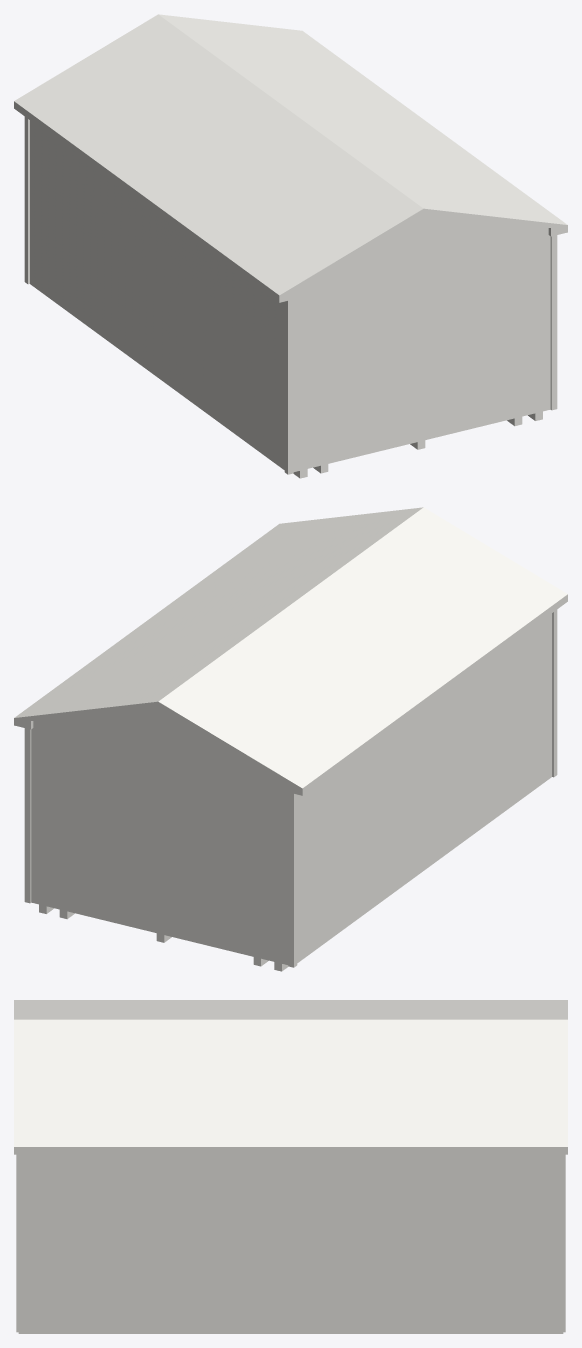
Rendered from 8 wide A-frame_7ft_12x20.obj.
3 renders of one model, top to bottom at view 1: azimuth 30°, elevation 25°; view 2: azimuth 150°, elevation 25°; view 3: azimuth 270°, elevation 25°, orthographic. The views are drawn at different scales.
Parts seen in each view (by area): view 1: Shed, Roof, Sides, Trim; view 2: Shed, Roof, Sides, Trim; view 3: Shed, Roof, Sides, Trim, Floor.
Part boxes in pixels (x1,y1,x2,y2): Shed: (30, 120, 550, 471); Roof: (14, 14, 567, 295); Sides: (14, 101, 567, 302); Trim: (24, 116, 557, 474); Shed: (31, 613, 551, 964); Roof: (14, 507, 567, 788); Sides: (14, 594, 567, 795); Trim: (24, 609, 557, 967); Shed: (23, 1154, 558, 1331); Roof: (14, 1000, 567, 1146); Sides: (14, 1147, 567, 1154); Trim: (16, 1154, 565, 1332); Floor: (18, 1331, 563, 1333).
Bounding box in the file's own units: 3.89 × 3.12 × 6.2.
